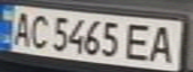4: (66, 16, 87, 55)
5: (100, 18, 124, 58), (48, 14, 72, 53)
6: (81, 17, 103, 56)
A: (145, 22, 181, 64), (6, 8, 36, 47)
C: (27, 11, 51, 50)
E: (124, 20, 157, 62)
